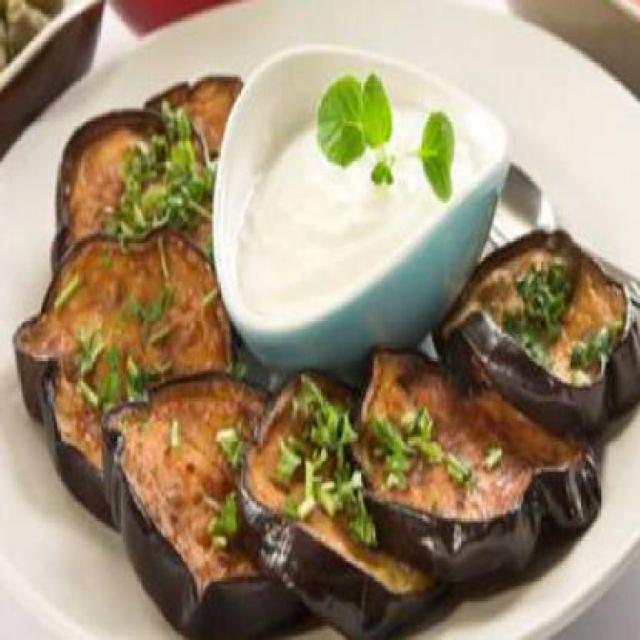eggplant: (20, 70, 638, 636)
hummus: (230, 84, 484, 313)
